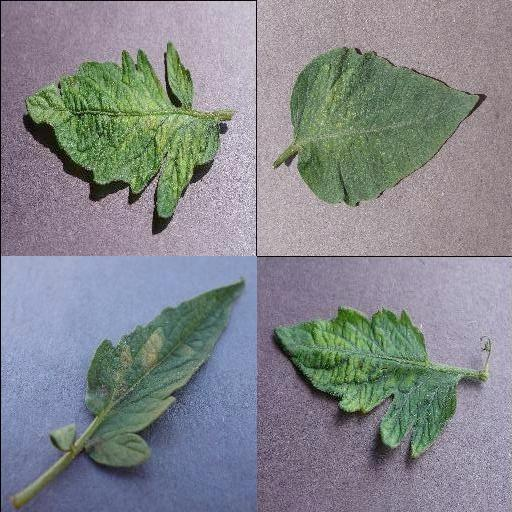Leaf Mold: (81, 282, 247, 466)
Mosaic Virus: (22, 39, 222, 219), (273, 306, 455, 460)
Spider Mites: (288, 46, 480, 207)
